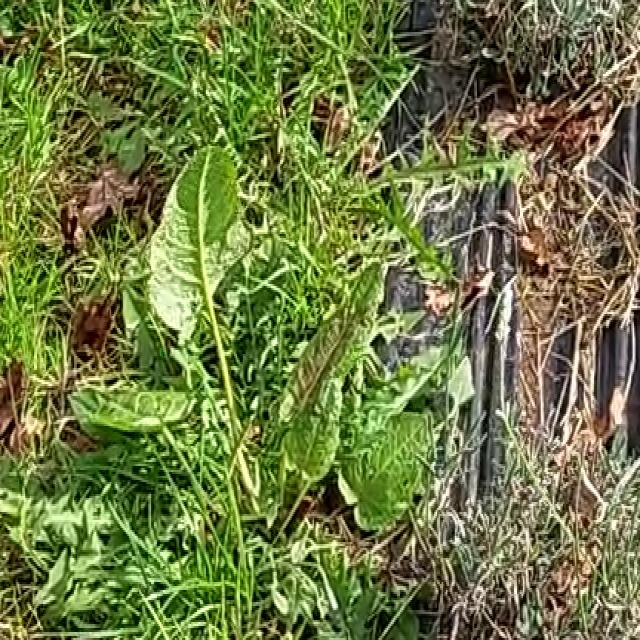organic waste: (18, 120, 450, 564)
